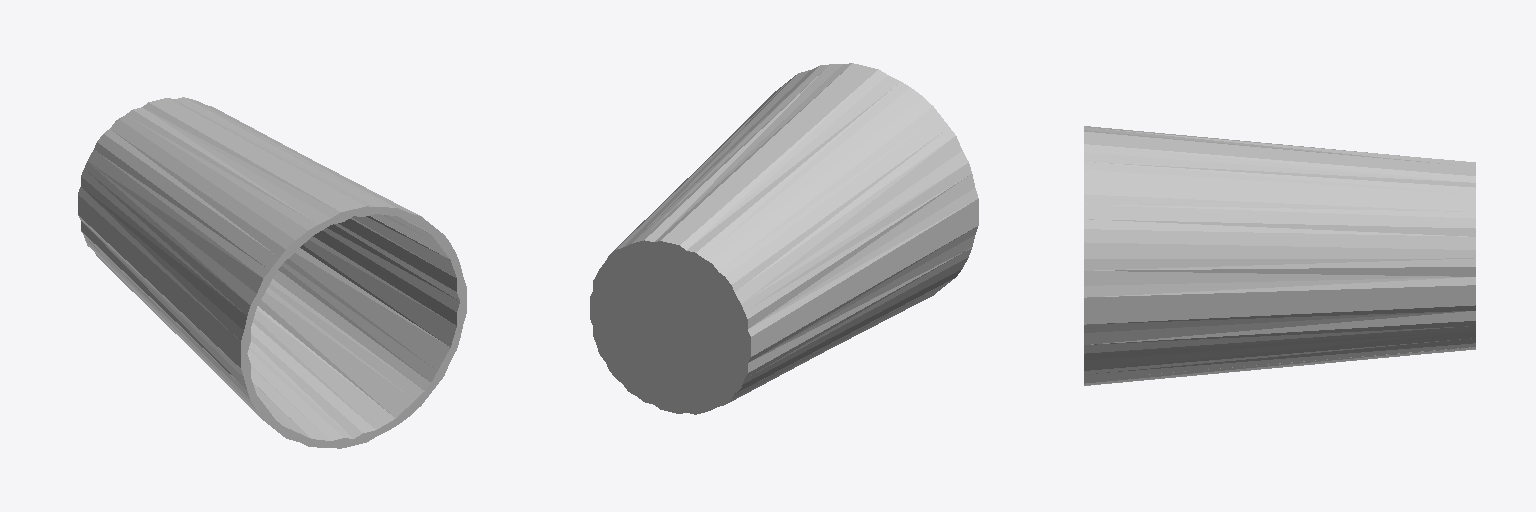
Rendered from bluecup_new_non_covex.obj.
The picture shows the model from 3 angles: view 1: azimuth 30°, elevation 25°; view 2: azimuth 150°, elevation 25°; view 3: azimuth 270°, elevation 25°; orthographic projection.
Bounding box in the file's own units: 0.07 × 0.07 × 0.105.